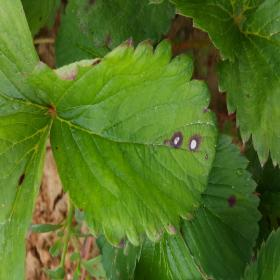Leaf Spot: (50, 36, 219, 248), (180, 135, 261, 279), (214, 0, 279, 170), (0, 112, 55, 279), (76, 0, 177, 51), (243, 228, 279, 279), (22, 0, 61, 38)
